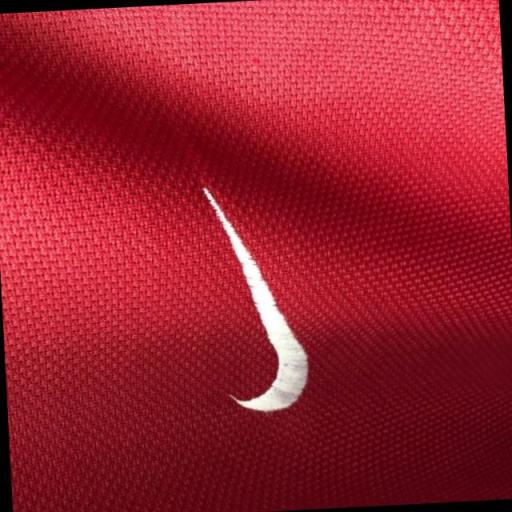Nike: (194, 169, 320, 424)
